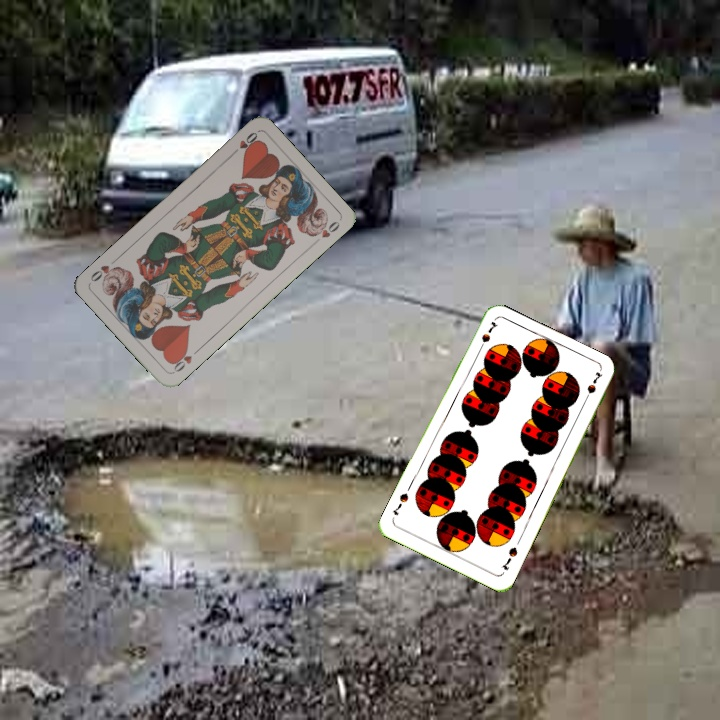HO: (168, 344, 202, 375), (227, 128, 260, 159)
S7: (474, 317, 500, 355), (497, 543, 520, 573)
